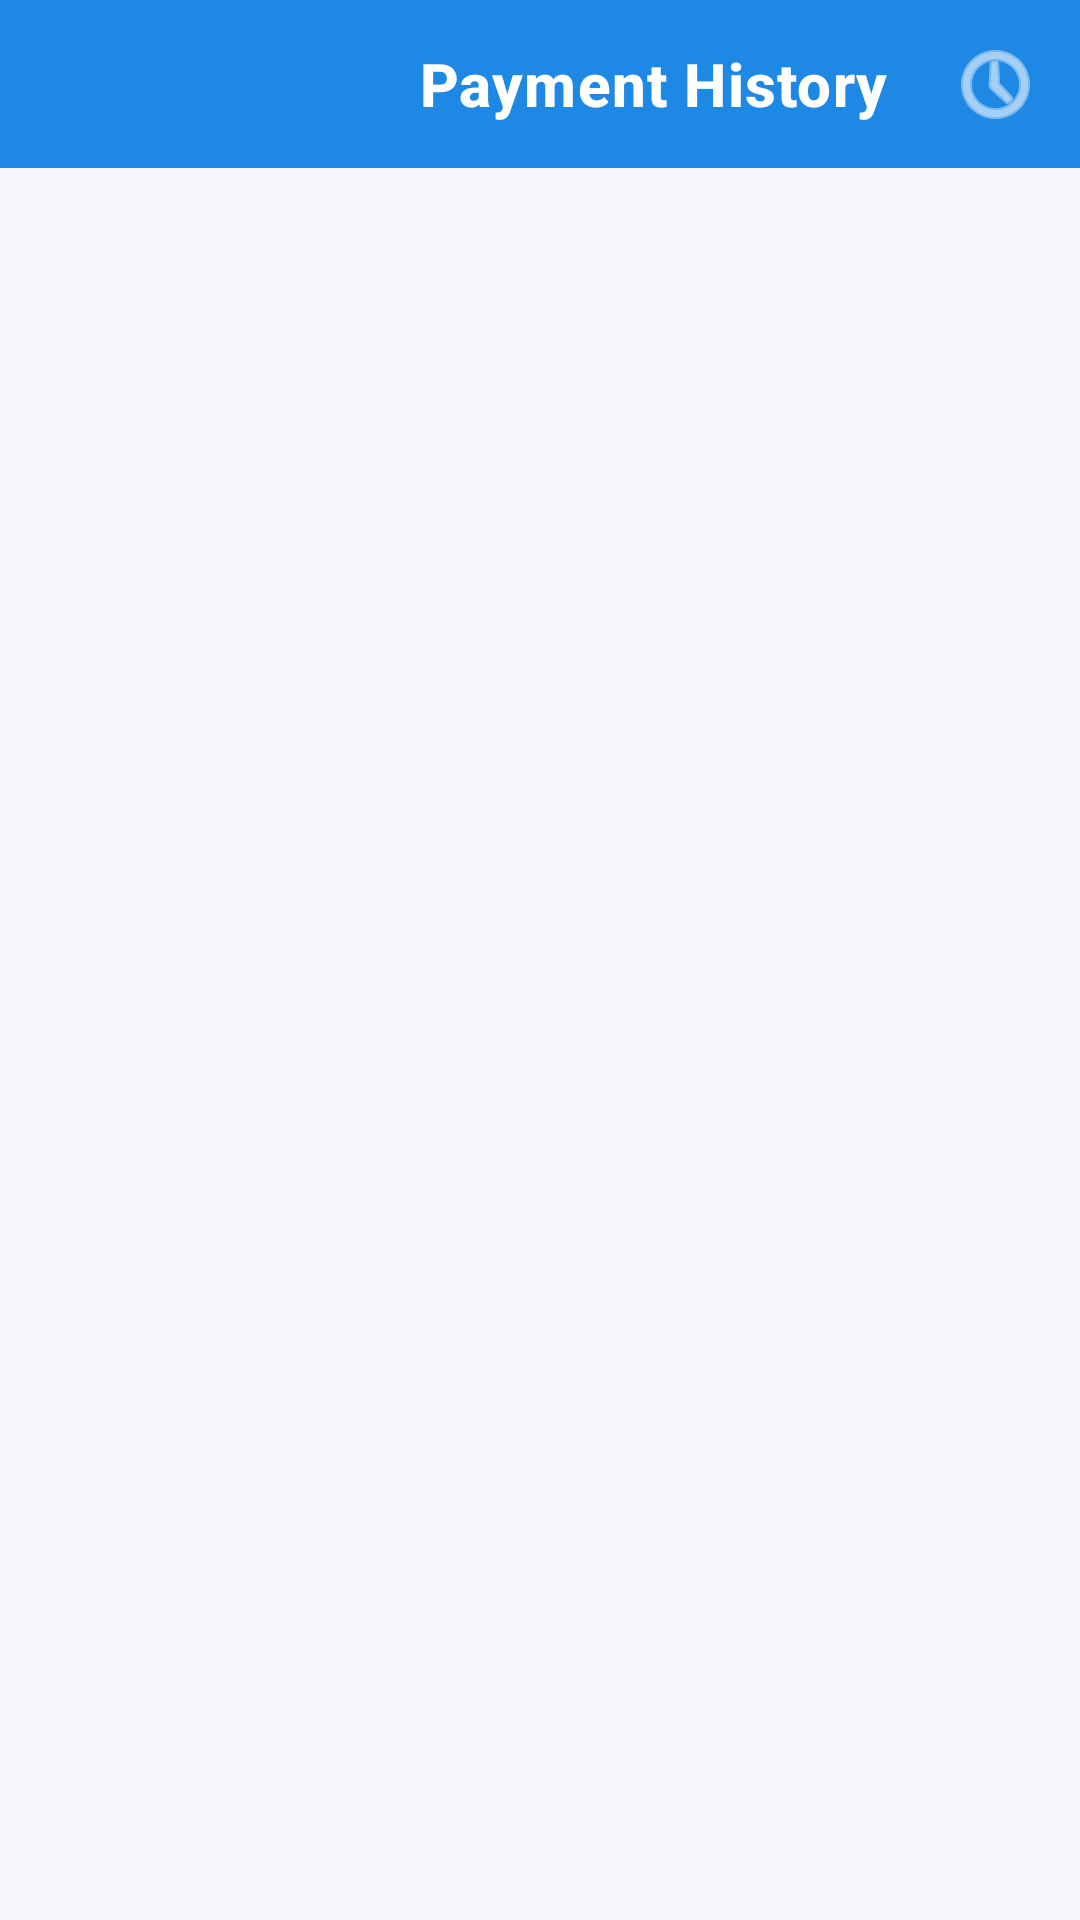

Icon click points for this 1080w x 1920h phone screenshot, format (x=x, y=y):
recent history: (x=995, y=84)
